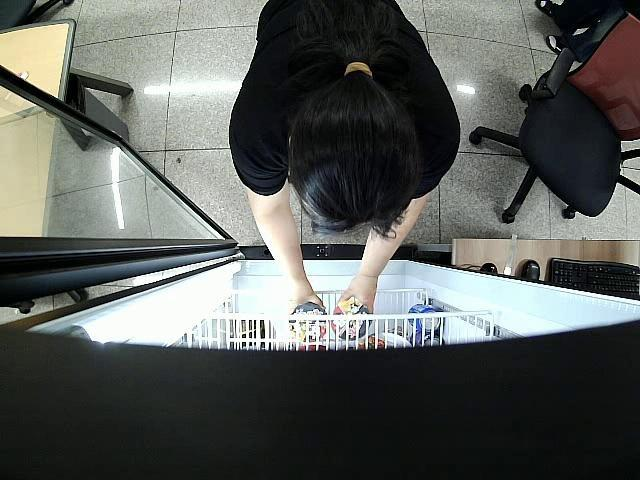08_buldak_S: (329, 303, 371, 339), (290, 302, 326, 340)
